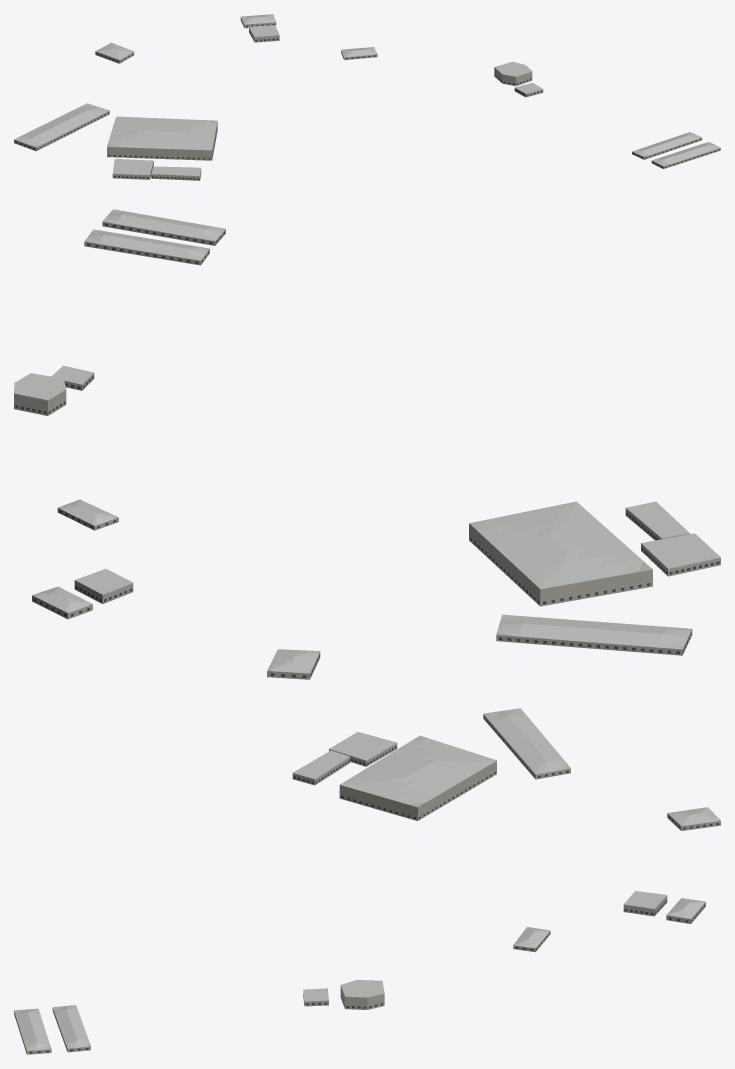
Rendered from UMPSA-Pekan-south.glb.
3 views of the same model, one above another, from view 1: azimuth 30°, elevation 25°; view 2: azimuth 150°, elevation 25°; view 3: azimuth 270°, elevation 25° (orthographic). The views are drawn at different scales.
Parts seen in each view (by area): view 1: Kompleks Sukan UMPSA Pekan - indoor hall - campus exterior, Southern campus training workshops - campus exterior, Southern campus residences - south row - campus exterior, Southern campus residences - north row - campus exterior, Sports complex - west facilities - campus exterior, Campus water storage tank - campus exterior, Sports complex - pool facilities - campus exterior, Southern research laboratory A - campus exterior, Southern research laboratory C - campus exterior, Southern research laboratory B - campus exterior, Southern research laboratory D - campus exterior, Campus water pump house - campus exterior; view 2: Kompleks Sukan UMPSA Pekan - indoor hall - campus exterior, Southern campus training workshops - campus exterior, Sports complex - west facilities - campus exterior, Southern campus residences - south row - campus exterior, Southern campus residences - north row - campus exterior, Campus water storage tank - campus exterior, Sports complex - pool facilities - campus exterior, Southern research laboratory C - campus exterior, Southern research laboratory A - campus exterior, Southern research laboratory B - campus exterior, Southern research laboratory D - campus exterior; view 3: Kompleks Sukan UMPSA Pekan - indoor hall - campus exterior, Southern campus training workshops - campus exterior, Sports complex - west facilities - campus exterior, Campus water storage tank - campus exterior, Southern campus residences - south row - campus exterior, Southern campus residences - north row - campus exterior, Sports complex - pool facilities - campus exterior, Southern research laboratory A - campus exterior, Southern research laboratory C - campus exterior, Southern research laboratory B - campus exterior, Southern research laboratory D - campus exterior.
Part boxes in pixels (x1,y1,x2,y2): Kompleks Sukan UMPSA Pekan - indoor hall - campus exterior: (107, 116, 217, 160); Southern campus training workshops - campus exterior: (14, 103, 109, 151); Southern campus residences - south row - campus exterior: (651, 142, 720, 169); Southern campus residences - north row - campus exterior: (632, 132, 702, 159); Sports complex - west facilities - campus exterior: (112, 159, 153, 179); Campus water storage tank - campus exterior: (494, 61, 532, 85); Sports complex - pool facilities - campus exterior: (151, 166, 201, 180); Southern research laboratory A - campus exterior: (95, 42, 134, 63); Southern research laboratory C - campus exterior: (249, 25, 279, 42); Southern research laboratory B - campus exterior: (240, 14, 276, 28); Southern research laboratory D - campus exterior: (341, 47, 377, 60); Campus water pump house - campus exterior: (514, 82, 543, 97); Kompleks Sukan UMPSA Pekan - indoor hall - campus exterior: (469, 501, 652, 606); Southern campus training workshops - campus exterior: (496, 614, 692, 655); Sports complex - west facilities - campus exterior: (641, 533, 720, 576); Southern campus residences - south row - campus exterior: (102, 209, 225, 245); Southern campus residences - north row - campus exterior: (84, 229, 209, 265); Campus water storage tank - campus exterior: (14, 373, 66, 415); Sports complex - pool facilities - campus exterior: (625, 501, 689, 540); Southern research laboratory C - campus exterior: (74, 568, 133, 603); Southern research laboratory A - campus exterior: (267, 649, 320, 679); Southern research laboratory B - campus exterior: (32, 586, 92, 619); Southern research laboratory D - campus exterior: (57, 499, 118, 530); Kompleks Sukan UMPSA Pekan - indoor hall - campus exterior: (339, 735, 496, 820); Southern campus training workshops - campus exterior: (483, 708, 570, 779); Sports complex - west facilities - campus exterior: (329, 732, 397, 766); Campus water storage tank - campus exterior: (340, 980, 384, 1009); Southern campus residences - south row - campus exterior: (14, 1008, 51, 1054); Southern campus residences - north row - campus exterior: (52, 1005, 90, 1052); Sports complex - pool facilities - campus exterior: (292, 750, 350, 785); Southern research laboratory A - campus exterior: (667, 807, 720, 830); Southern research laboratory C - campus exterior: (623, 891, 667, 916); Southern research laboratory B - campus exterior: (666, 898, 705, 923); Southern research laboratory D - campus exterior: (513, 927, 550, 952).
Size of the model in its own units: 583 by 13 by 510.
